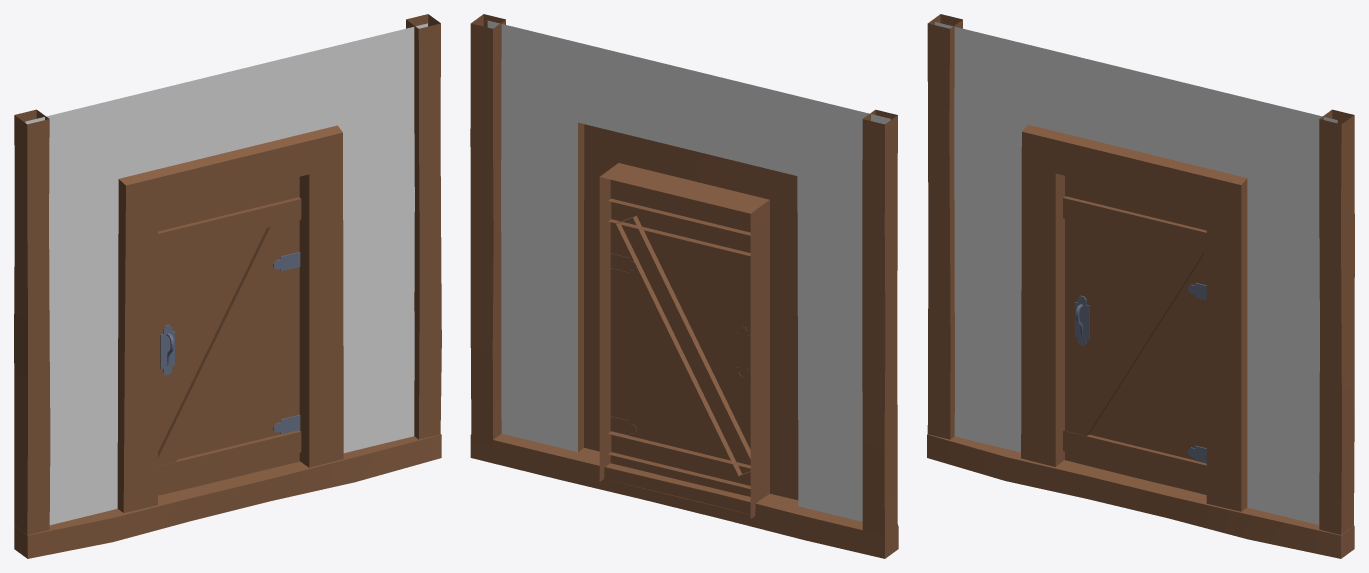
The model's file is Plaster Wall Door.fbx.
3 views of the same model, side by side, from view 1: azimuth 30°, elevation 25°; view 2: azimuth 150°, elevation 25°; view 3: azimuth 330°, elevation 25° (orthographic).
Visible parts, largest first — view 1: Plaster Wall Door; view 2: Plaster Wall Door; view 3: Plaster Wall Door.
Boxes of the visible parts, <box> form: Plaster Wall Door: <box>14,14,441,558</box>; Plaster Wall Door: <box>470,14,898,558</box>; Plaster Wall Door: <box>927,14,1354,558</box>.
Bounding box in the file's own units: 206 × 206 × 18.79.
